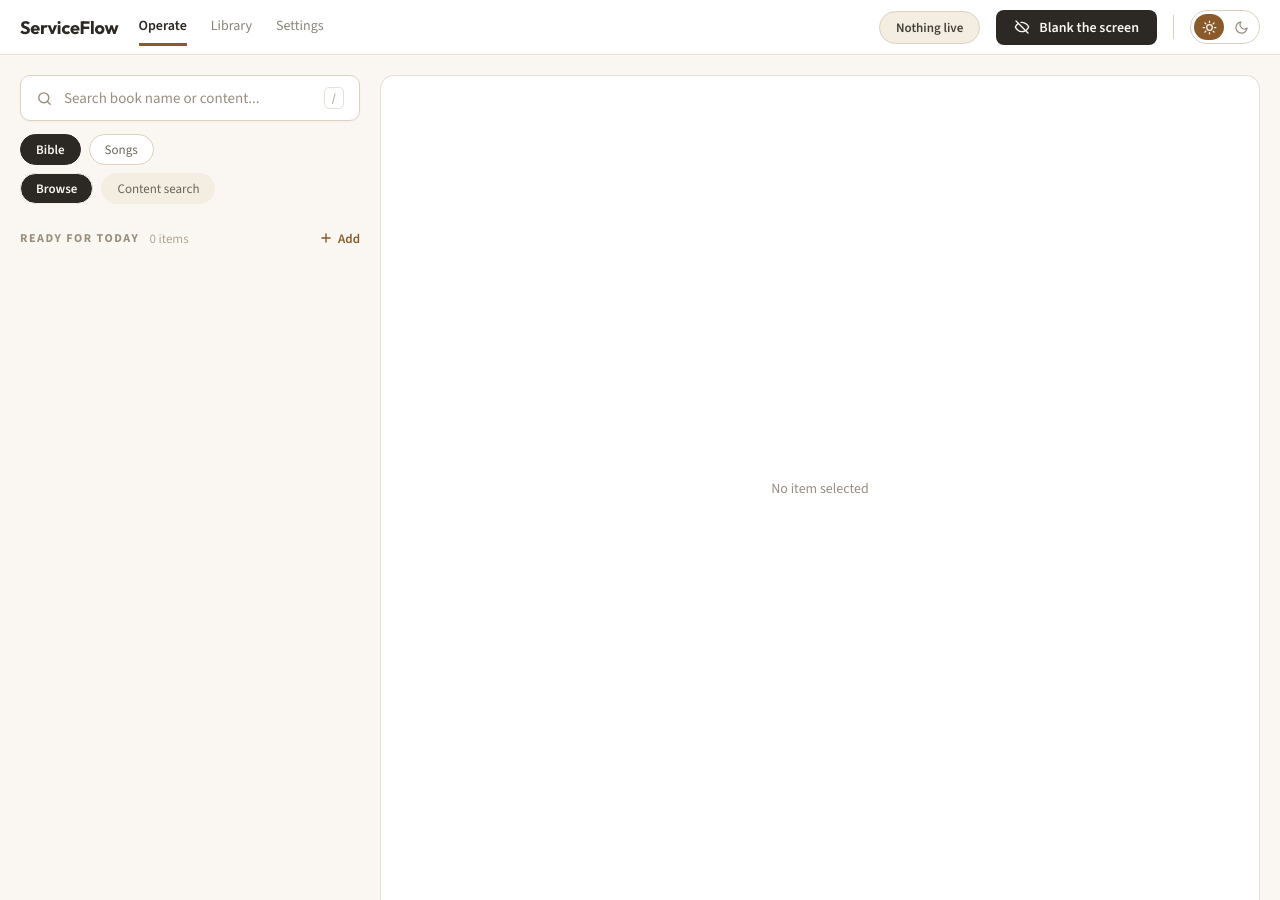
it: App › switches to the library view
Click the button "Library" at (231, 27), box [211,8,252,46]
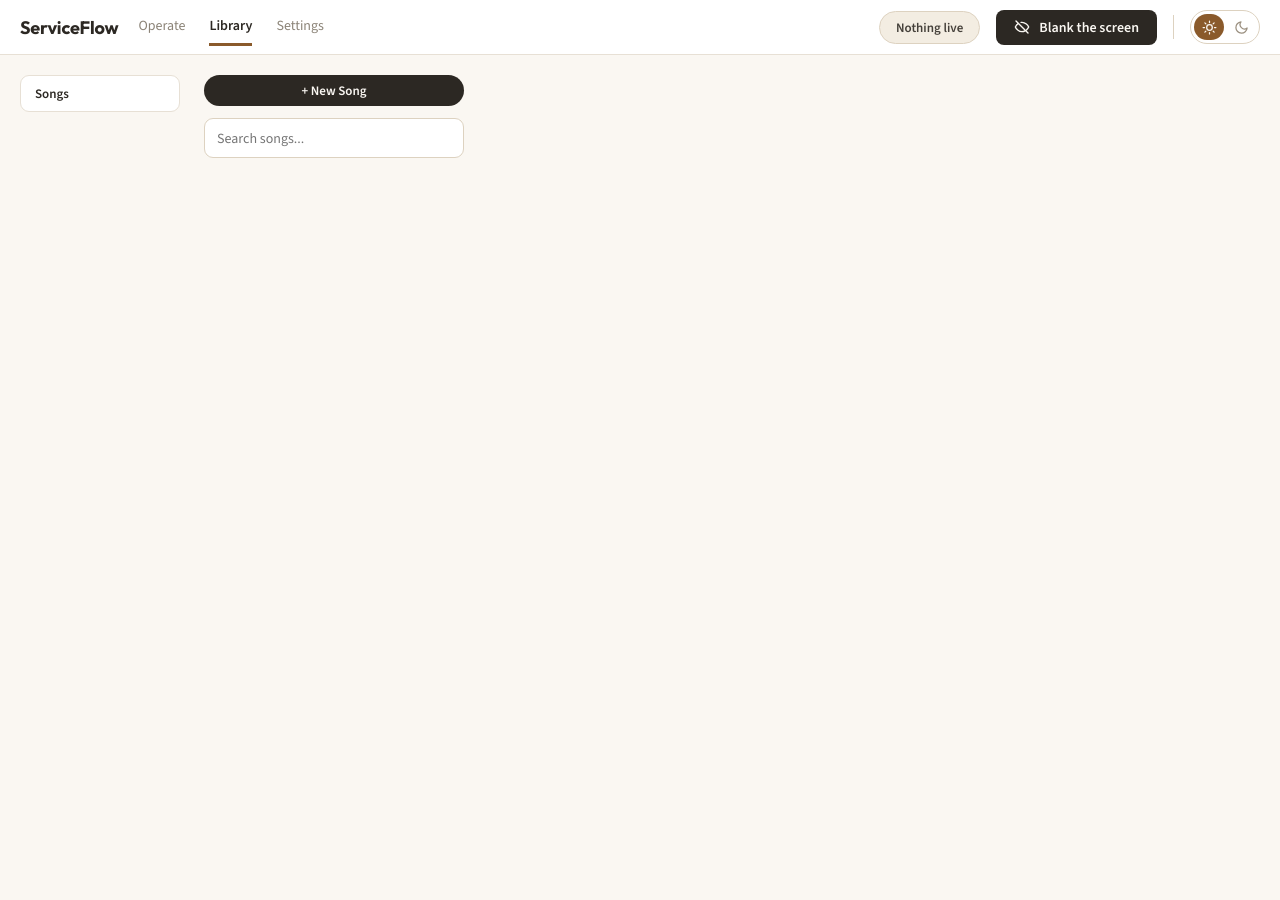
Result: the button "+ New Song" is shown at [204,75,464,106]
